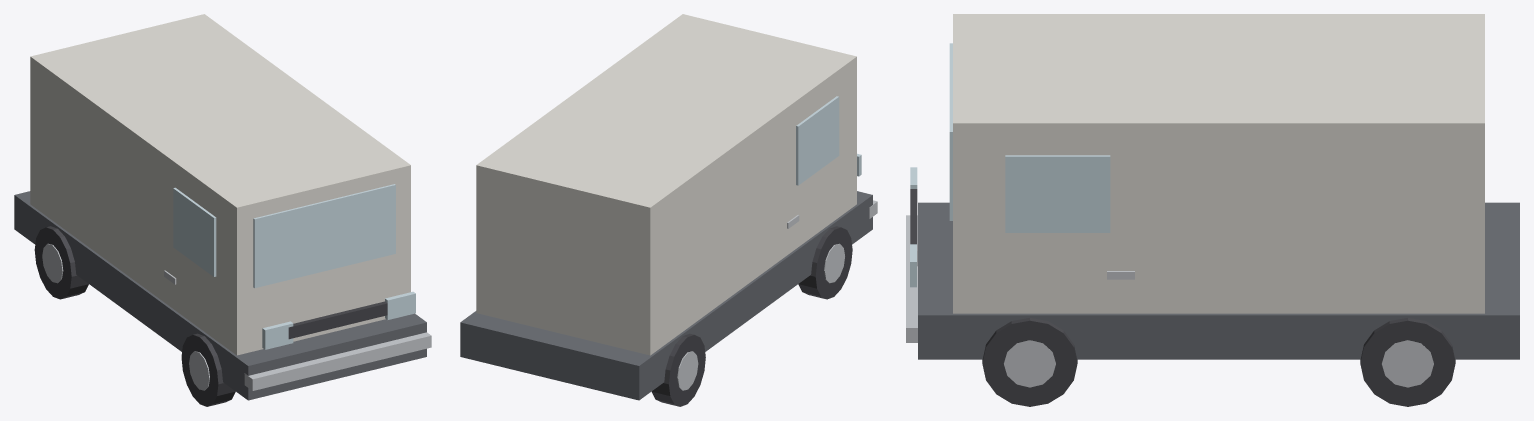
The model's file is bank-vault-heist-kit-getaway-van-2a745810__25137.glb.
3 views of the same model, side by side, from view 1: azimuth 30°, elevation 25°; view 2: azimuth 150°, elevation 25°; view 3: azimuth 270°, elevation 25° (orthographic). The views are drawn at different scales.
Visible parts, largest first — view 1: getaway-van, wheel--0.9--1.35 (×2), wheel--0.9-1.35 (×2); view 2: getaway-van, wheel--0.9--1.35 (×2), wheel--0.9-1.35 (×2); view 3: getaway-van, wheel-0.9--1.35 (×2), wheel-0.9-1.35 (×2).
Part boxes in pixels (x1,y1,x2,y2): getaway-van: (14, 14, 431, 400); wheel--0.9--1.35 (×2): (34, 226, 88, 299); wheel--0.9-1.35 (×2): (181, 333, 235, 406); getaway-van: (460, 14, 877, 400); wheel--0.9--1.35 (×2): (651, 333, 705, 406); wheel--0.9-1.35 (×2): (798, 226, 852, 299); getaway-van: (906, 14, 1519, 359); wheel-0.9--1.35 (×2): (1360, 318, 1455, 406); wheel-0.9-1.35 (×2): (982, 318, 1077, 406).
Bounding box in the file's own units: 2.01 × 2.2 × 4.39.
